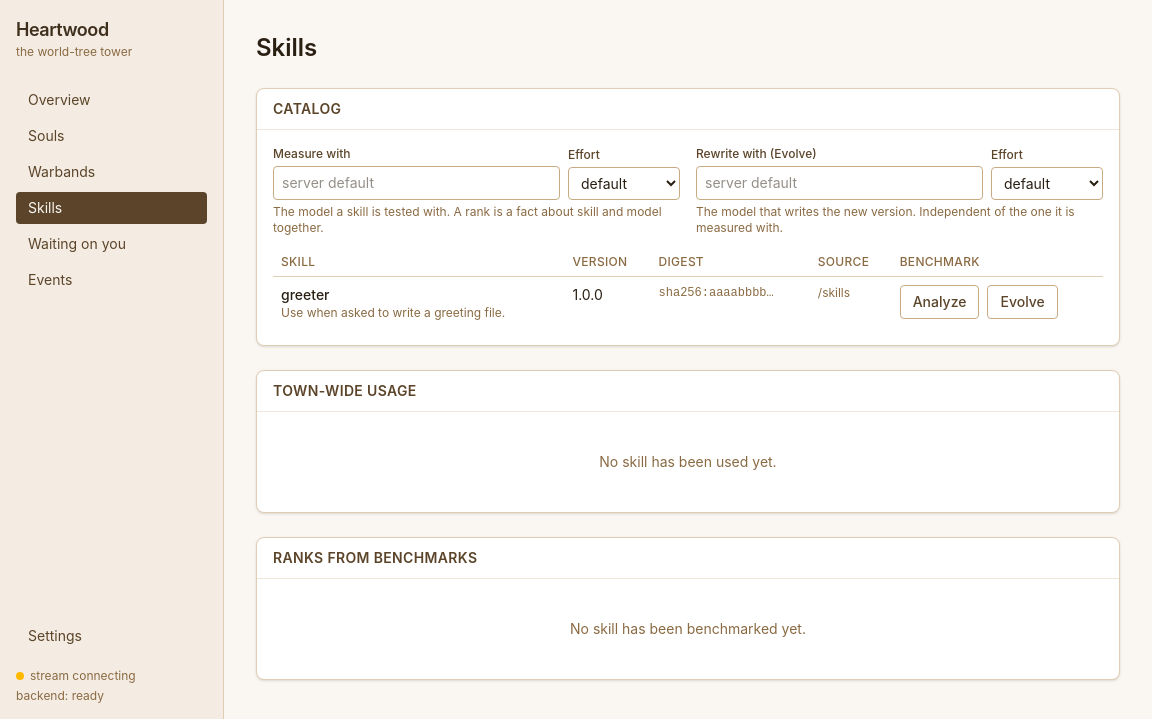
Scenario: pages › skills catalog actions › Analyze benchmarks exactly the pinned digest and reports the outcome
Click the button "Analyze". click: (940, 302)
box: top-left (900, 285), bottom-right (980, 319)
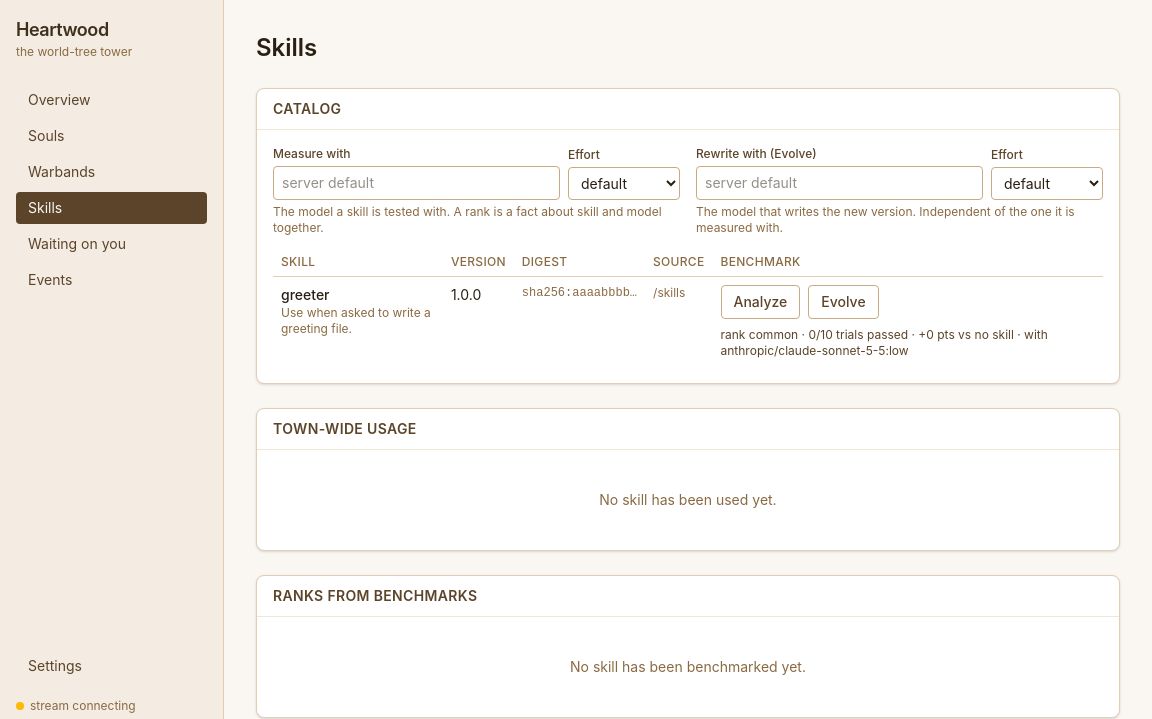
Expected: the text "rank common · 0/10 trials passed · +0 pts vs no skill" is shown, top-left (720, 327), bottom-right (1048, 358)
